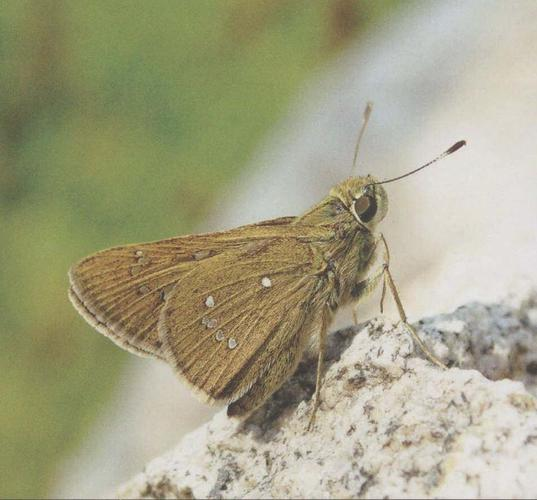Hesperiidae: (67, 101, 471, 434)
